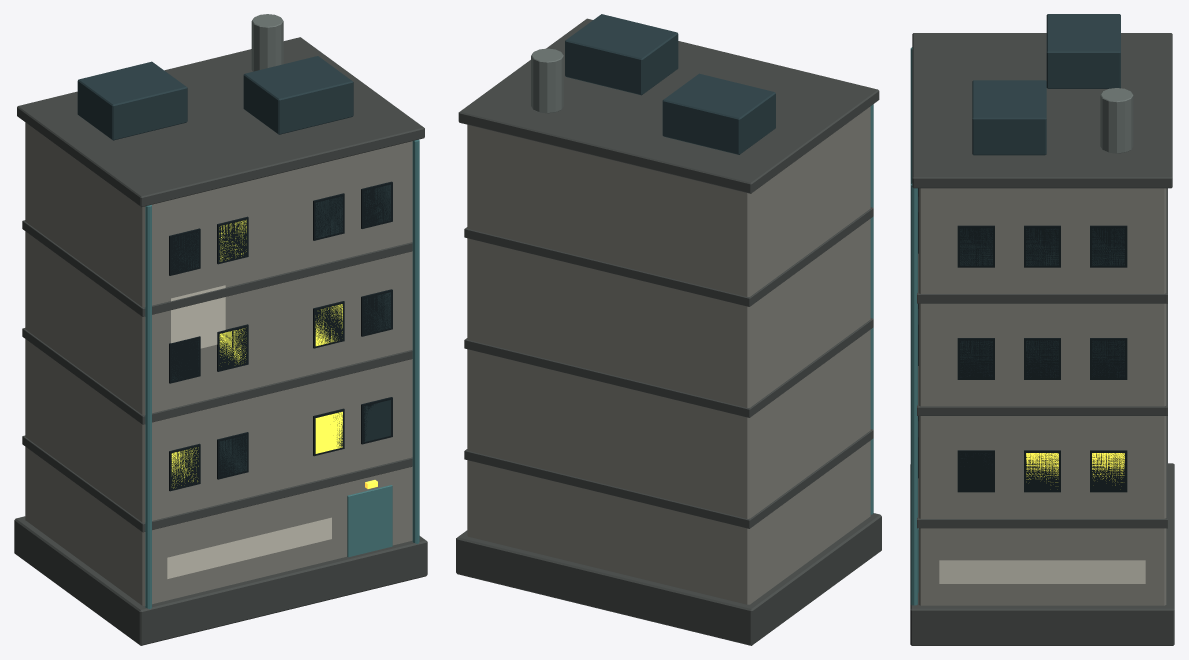
Rendered from facility-tower-block.glb.
The picture shows the model from 3 angles, left to right: view 1: azimuth 30°, elevation 25°; view 2: azimuth 150°, elevation 25°; view 3: azimuth 270°, elevation 25°; orthographic projection. The views are drawn at different scales.
Parts seen in each view (by area): view 1: facility-tower-block__facility-tower-block__concrete, facility-tower-block__facility-tower-block__concrete-dark, facility-tower-block__facility-tower-block__rubber, facility-tower-block__facility-tower-block__steel, facility-tower-block__facility-tower-block__petrol, facility-tower-block__facility-tower-block__decal-ivory, facility-tower-block__facility-tower-block__signal-amber, facility-tower-block__facility-tower-block__hardware, facility-tower-block__facility-tower-block__glass; view 2: facility-tower-block__facility-tower-block__concrete, facility-tower-block__facility-tower-block__concrete-dark, facility-tower-block__facility-tower-block__steel, facility-tower-block__facility-tower-block__hardware, facility-tower-block__facility-tower-block__petrol; view 3: facility-tower-block__facility-tower-block__concrete, facility-tower-block__facility-tower-block__concrete-dark, facility-tower-block__facility-tower-block__rubber, facility-tower-block__facility-tower-block__steel, facility-tower-block__facility-tower-block__decal-ivory, facility-tower-block__facility-tower-block__petrol, facility-tower-block__facility-tower-block__hardware, facility-tower-block__facility-tower-block__signal-amber.
Boxes of the visible parts, box(x1,y1,x2,y2) form: facility-tower-block__facility-tower-block__concrete: box(25, 122, 412, 605); facility-tower-block__facility-tower-block__concrete-dark: box(14, 37, 427, 645); facility-tower-block__facility-tower-block__rubber: box(169, 181, 392, 491); facility-tower-block__facility-tower-block__steel: box(77, 56, 353, 140); facility-tower-block__facility-tower-block__petrol: box(145, 139, 419, 609); facility-tower-block__facility-tower-block__decal-ivory: box(167, 285, 331, 578); facility-tower-block__facility-tower-block__signal-amber: box(171, 220, 377, 488); facility-tower-block__facility-tower-block__hardware: box(251, 14, 283, 71); facility-tower-block__facility-tower-block__glass: box(220, 185, 390, 471); facility-tower-block__facility-tower-block__concrete: box(467, 106, 870, 604); facility-tower-block__facility-tower-block__concrete-dark: box(456, 18, 881, 645); facility-tower-block__facility-tower-block__steel: box(565, 14, 775, 154); facility-tower-block__facility-tower-block__hardware: box(531, 48, 563, 113); facility-tower-block__facility-tower-block__petrol: box(870, 104, 873, 514); facility-tower-block__facility-tower-block__concrete: box(918, 188, 1166, 605); facility-tower-block__facility-tower-block__concrete-dark: box(910, 33, 1174, 645); facility-tower-block__facility-tower-block__rubber: box(918, 188, 1127, 492); facility-tower-block__facility-tower-block__steel: box(972, 14, 1120, 155); facility-tower-block__facility-tower-block__decal-ivory: box(939, 560, 1145, 583); facility-tower-block__facility-tower-block__petrol: box(910, 47, 918, 605); facility-tower-block__facility-tower-block__hardware: box(1100, 88, 1133, 153); facility-tower-block__facility-tower-block__signal-amber: box(1026, 453, 1124, 485).
Bounding box in the file's own units: 8.4 × 13.9 × 6.4.
